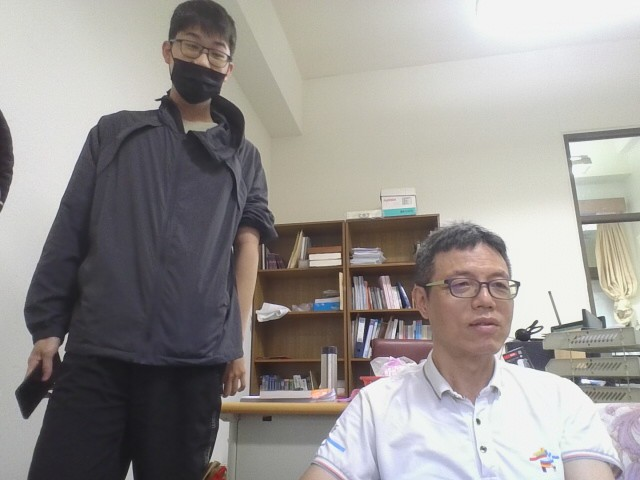No_Gloves: (17, 334, 63, 414), (20, 334, 63, 388), (220, 355, 249, 398)
No_Helmet: (410, 219, 522, 384), (159, 0, 238, 110)
person: (15, 2, 283, 478), (271, 203, 637, 480)
